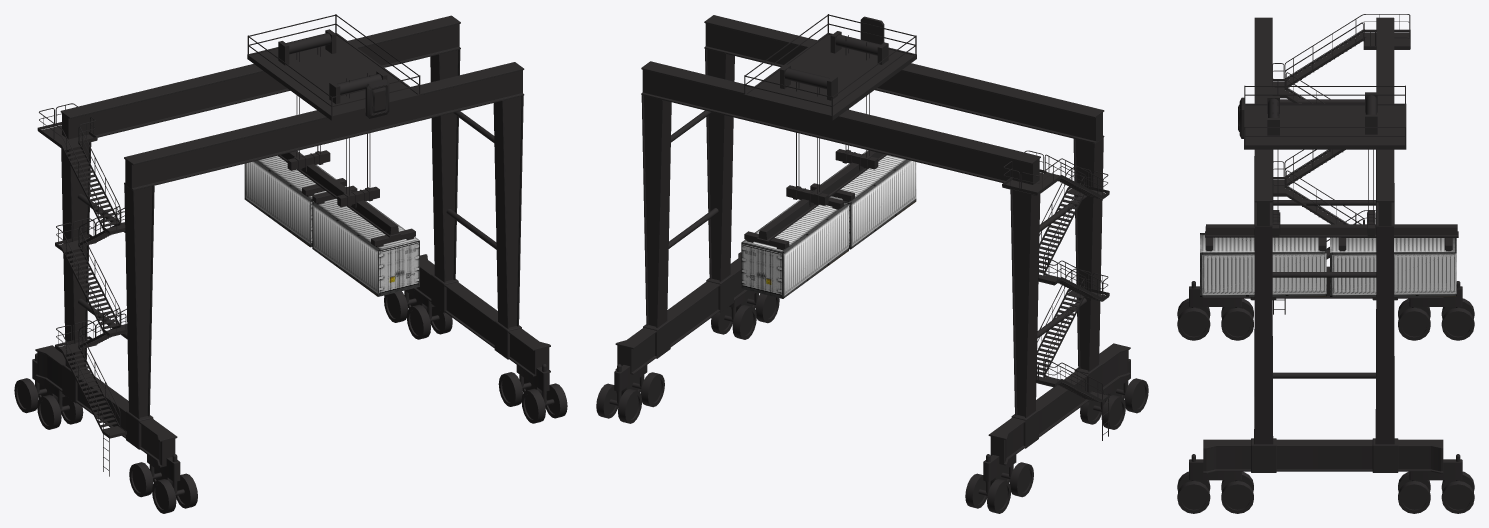
Rendered from shelves.glb.
3 renders of one model, left to right at view 1: azimuth 30°, elevation 25°; view 2: azimuth 150°, elevation 25°; view 3: azimuth 270°, elevation 25°, orthographic. The views are drawn at different scales.
Parts seen in each view (by area): view 1: max_cart, box, min_cart, xipan; view 2: max_cart, box, min_cart, xipan; view 3: max_cart, box, min_cart, xipan, line.
Part boxes in pixels (left/top/right/bottom): max_cart: left=14, top=15, right=567, bottom=513; box: left=244, top=151, right=419, bottom=296; min_cart: left=247, top=14, right=420, bottom=120; xipan: left=278, top=150, right=415, bottom=247; max_cart: left=596, top=15, right=1148, bottom=513; box: left=741, top=150, right=916, bottom=298; min_cart: left=743, top=14, right=916, bottom=120; xipan: left=744, top=149, right=886, bottom=250; max_cart: left=1177, top=14, right=1474, bottom=513; box: left=1200, top=233, right=1456, bottom=296; min_cart: left=1238, top=85, right=1406, bottom=149; xipan: left=1205, top=210, right=1458, bottom=251; line: left=1272, top=102, right=1373, bottom=223.
Bounding box in the file's own units: 4.74 × 3.91 × 3.11.
2 materials, 1 textured.
